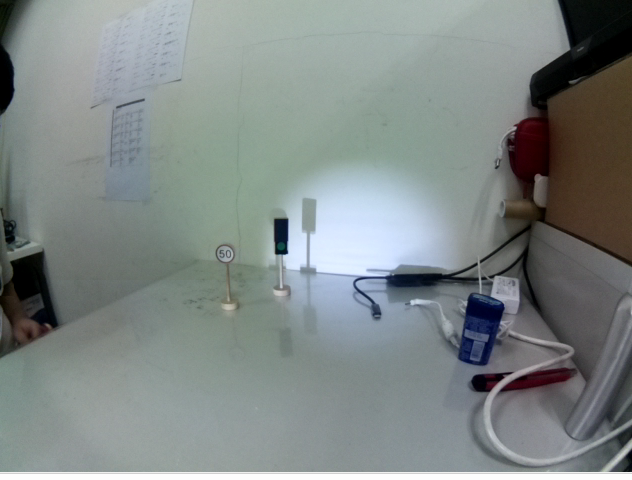Green: (272, 218, 291, 261)
Speed50: (215, 241, 238, 269)
